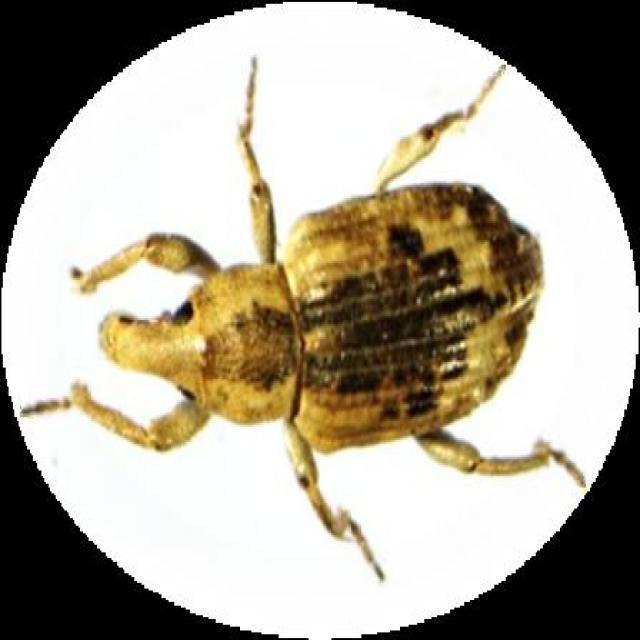ricebug: (22, 60, 583, 578)
